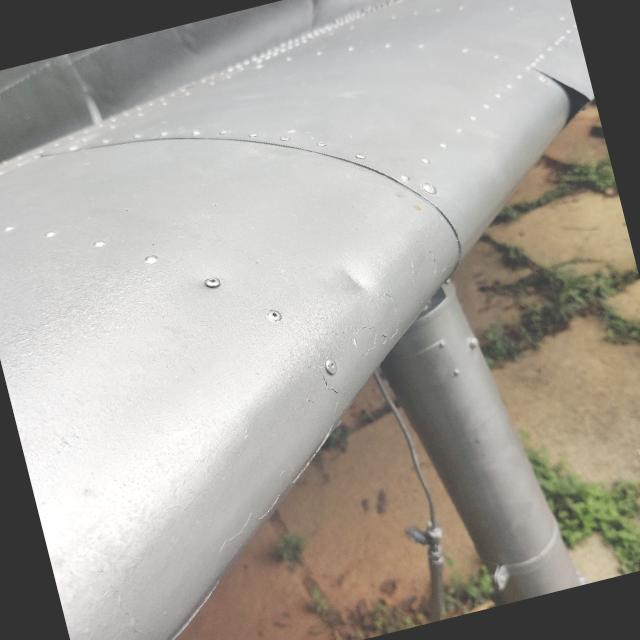dent: (324, 238, 397, 314)
